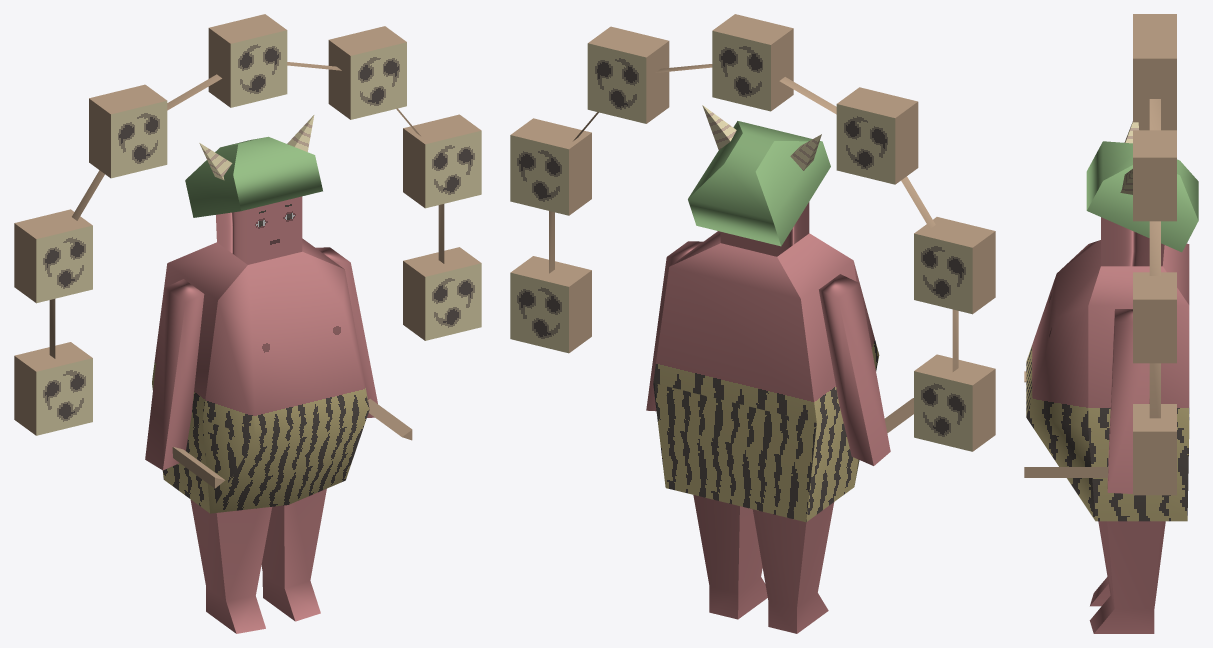
Rendered from 040e_Thunder_God.glb.
3 renders of one model, left to right at view 1: azimuth 30°, elevation 25°; view 2: azimuth 150°, elevation 25°; view 3: azimuth 270°, elevation 25°, orthographic. The views are drawn at different scales.
Parts seen in each view (by area): view 1: part_0; view 2: part_0; view 3: part_0.
Boxes of the visible parts, x1=… form: part_0: x1=14, y1=14, x2=481, y2=633; part_0: x1=510, y1=14, x2=995, y2=633; part_0: x1=1024, y1=14, x2=1198, y2=633.
Bounding box in the file's own units: 156 × 192 × 53.23.
1 material, 1 textured.
